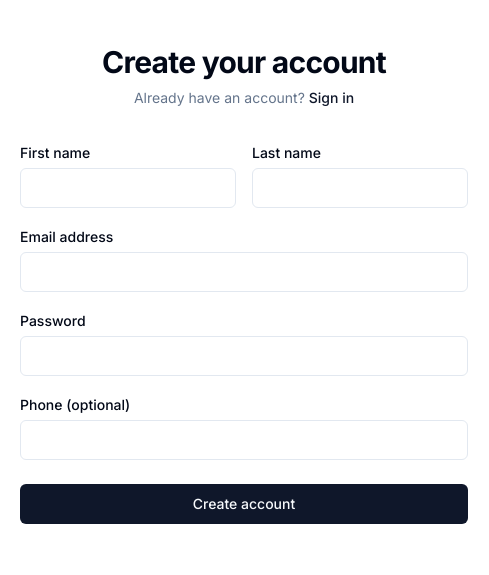
Test: RegisterPage › displays error message on registration failure
The width and height of the screenshot is (489, 575).
In the field labelled "First name": [128, 188] box [20, 168, 236, 208], type "John"
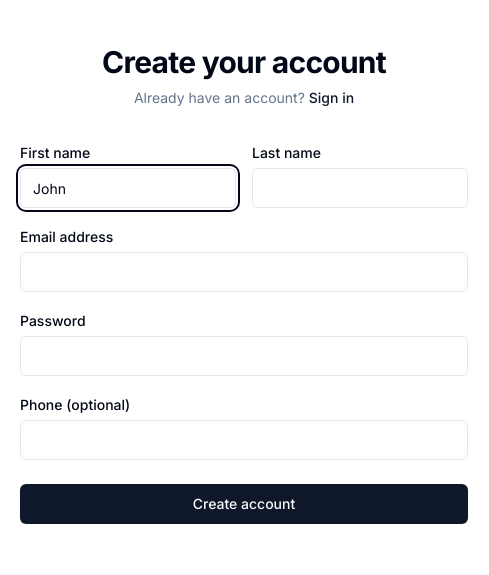
In the field labelled "Last name": [360, 188] box [252, 168, 468, 208], type "Doe"
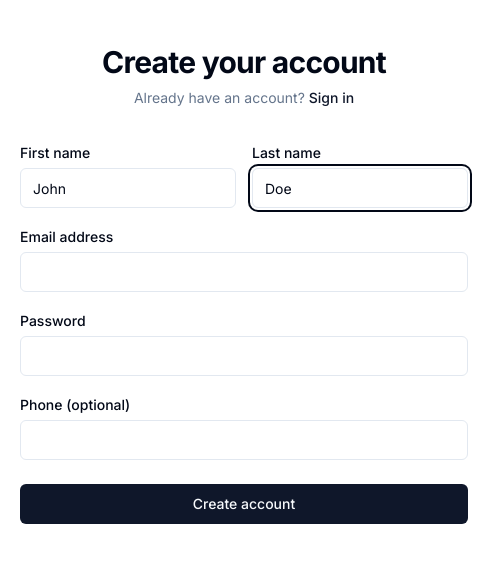
In the field labelled "Email address": [244, 272] box [20, 252, 468, 292], type "existing@example.com"
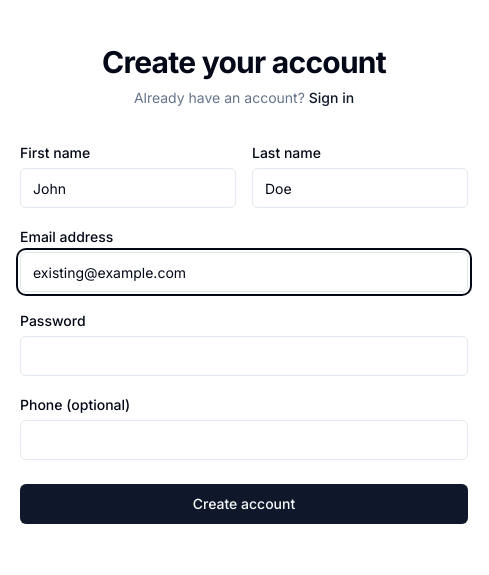
In the password field labelled "Password": [244, 356] box [20, 336, 468, 376], type "Password123"
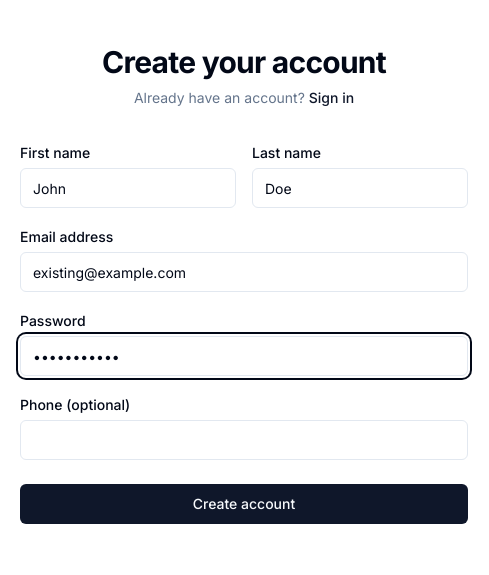
Click the button "Create account": [244, 504] box [20, 484, 468, 524]
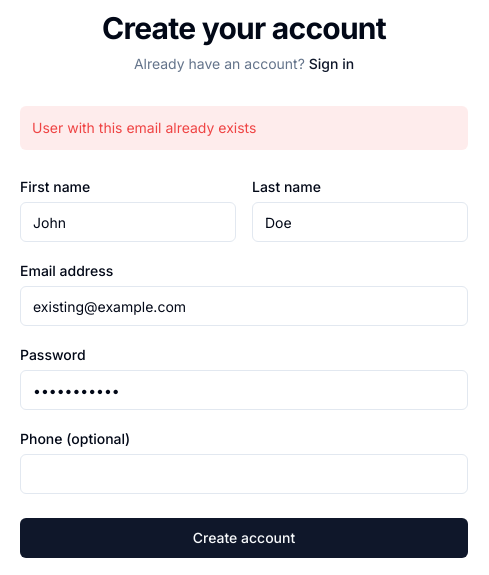
Check: the text "User with this email already exists" is shown, box [20, 106, 468, 150]
